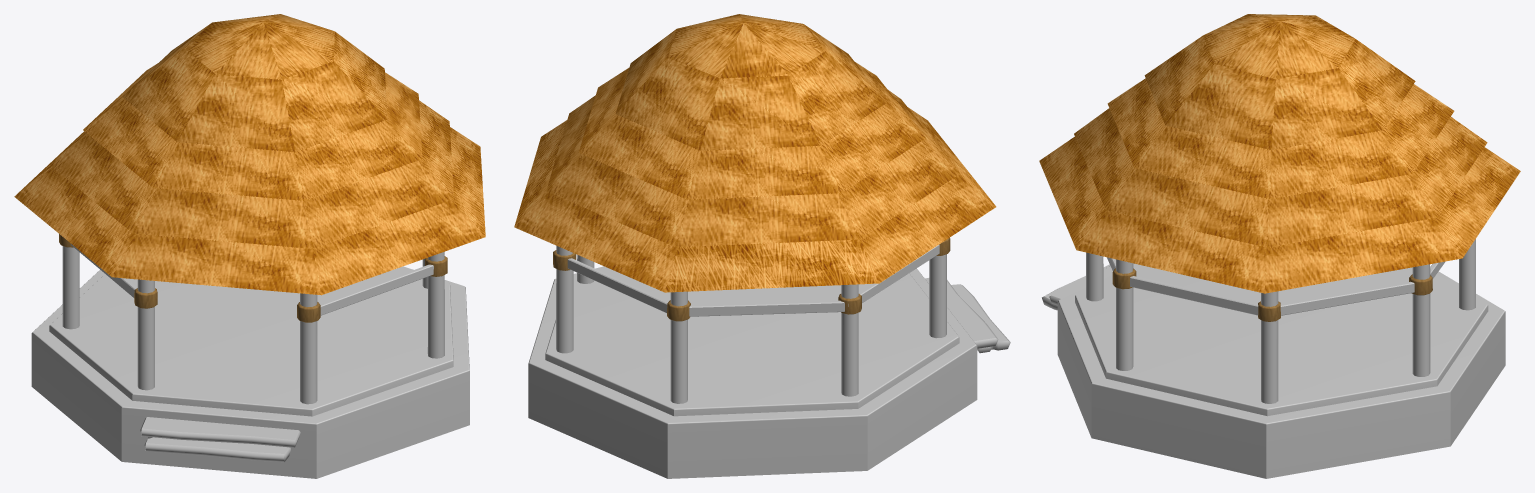
The model's file is AG_Stand_Info_Leaderboards_Art.fbx.
3 views of the same model, side by side, from view 1: azimuth 30°, elevation 25°; view 2: azimuth 150°, elevation 25°; view 3: azimuth 270°, elevation 25° (orthographic).
Parts seen in each view (by area): view 1: Stand_Info_Leaderboards; view 2: Stand_Info_Leaderboards; view 3: Stand_Info_Leaderboards.
Boxes of the visible parts, box(x1,y1,x2,y2) form: Stand_Info_Leaderboards: box(14, 14, 485, 478); Stand_Info_Leaderboards: box(514, 14, 1010, 478); Stand_Info_Leaderboards: box(1039, 14, 1520, 478).
Size of what is drawn, in the model's own units: 1929 by 1622 by 1956.
